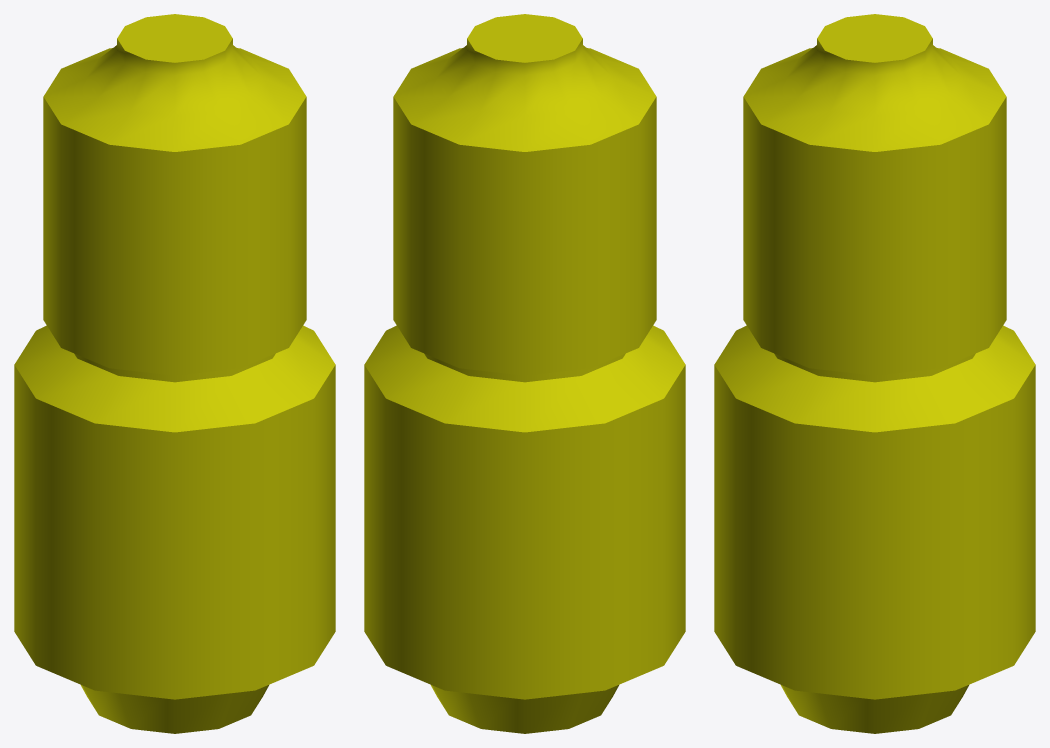
File: BarrellThing.FBX
3 renders of one model, left to right at view 1: azimuth 30°, elevation 25°; view 2: azimuth 150°, elevation 25°; view 3: azimuth 270°, elevation 25°, orthographic.
Parts seen in each view (by area): view 1: OilTank01; view 2: OilTank01; view 3: OilTank01.
Part boxes in pixels (x1,y1,x2,y2): OilTank01: (14, 14, 335, 733); OilTank01: (364, 14, 685, 733); OilTank01: (714, 14, 1035, 733).
Size of the model in its own units: 75.61 by 171 by 75.61.
